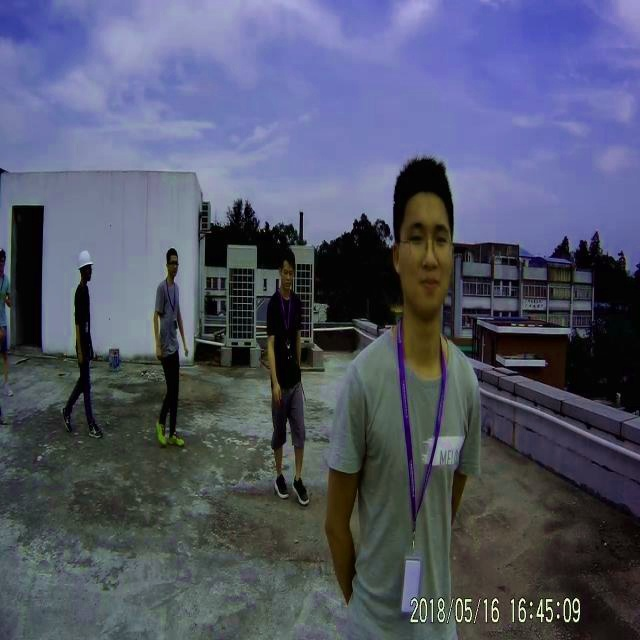Con_Casco: (77, 250, 94, 284)
Sin_Casco_Mascarrilla: (390, 153, 458, 315), (277, 247, 295, 289), (164, 247, 180, 278)
Sin_Chaleco: (329, 332, 483, 586)
